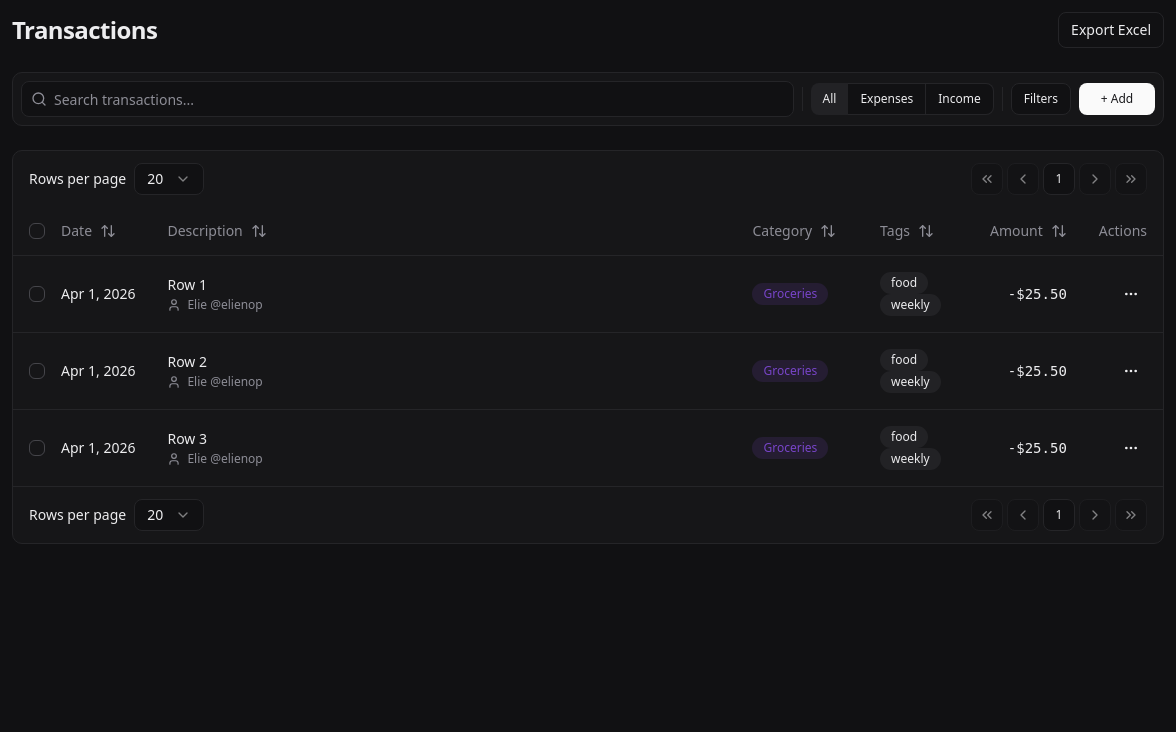
Test case: Transactions page › selection state machine › selecting one row shows "1 selected" action bar
Click the checkbox named "select row 1" at (37, 294), box [29, 286, 45, 302]
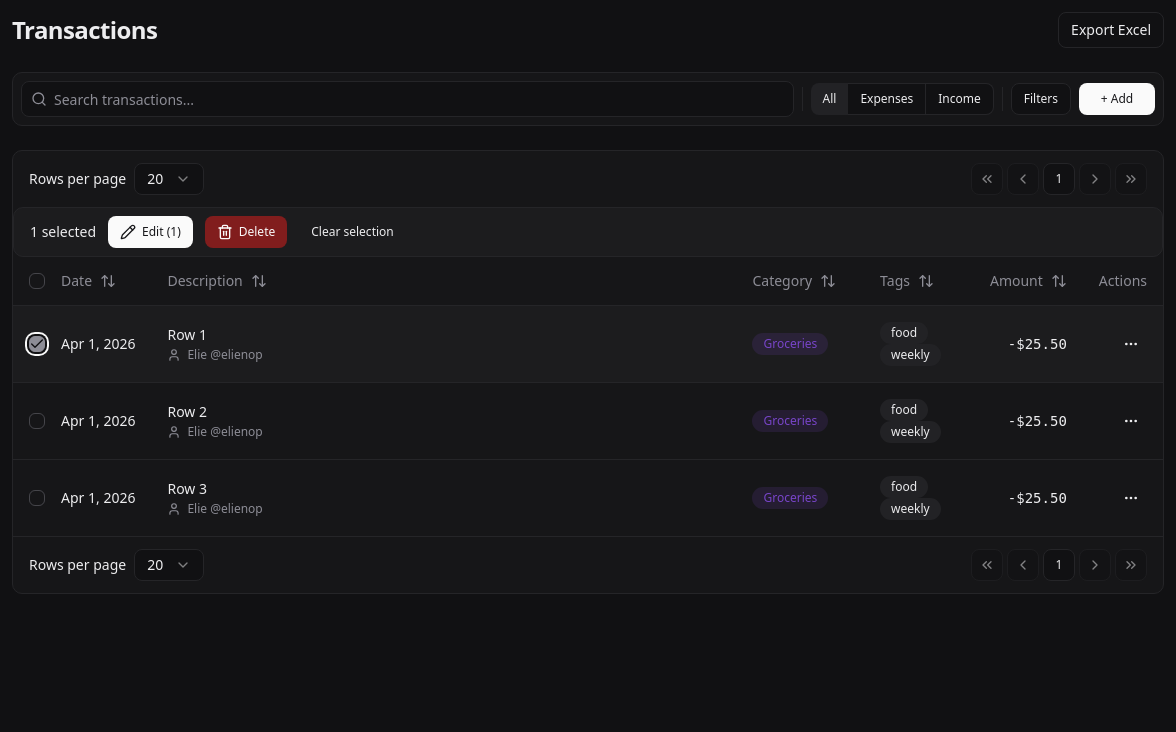
Expected: the text "1 selected" is shown, [30, 222, 96, 242]
